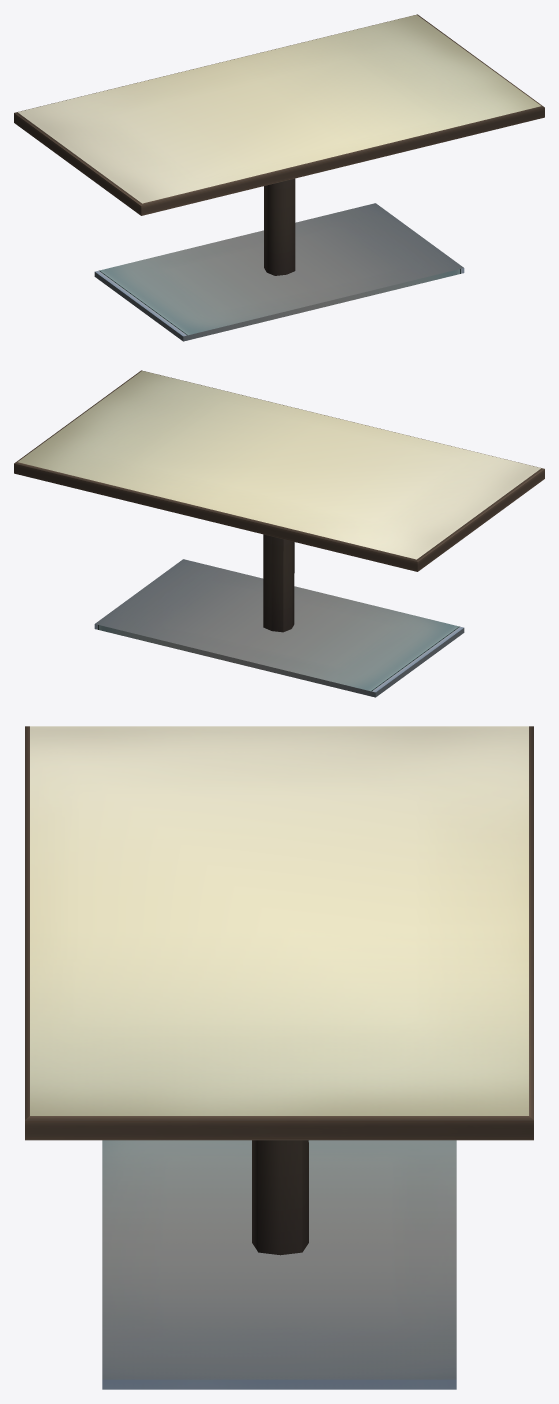
File: table04ab.fbx
3 views of the same model, one above another, from view 1: azimuth 30°, elevation 25°; view 2: azimuth 150°, elevation 25°; view 3: azimuth 270°, elevation 25° (orthographic). The views are drawn at different scales.
Parts seen in each view (by area): view 1: table04ab; view 2: table04ab; view 3: table04ab.
Part boxes in pixels (<box>): table04ab: <box>14,14,544,341</box>; table04ab: <box>14,370,544,697</box>; table04ab: <box>25,726,533,1389</box>.
Size of the model in its own units: 1.85 by 0.7275 by 1.01.
